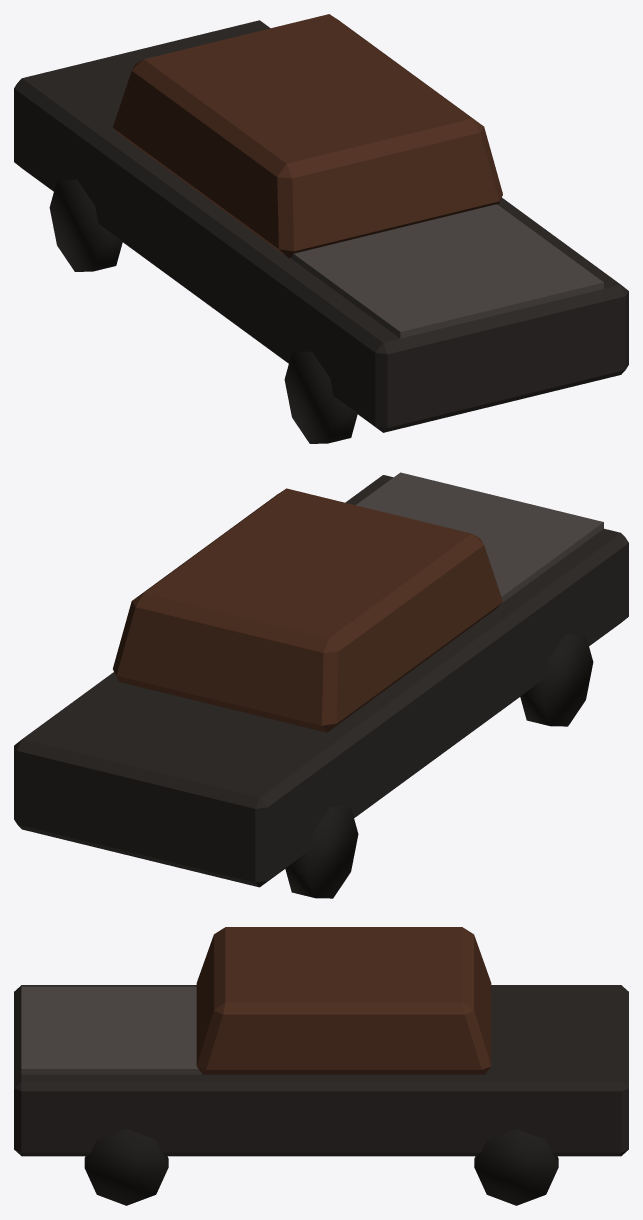
File: car_burned.glb
3 views of the same model, one above another, from view 1: azimuth 30°, elevation 25°; view 2: azimuth 150°, elevation 25°; view 3: azimuth 270°, elevation 25° (orthographic). The views are drawn at different scales.
Visible parts, largest first — view 1: CarBurned; view 2: CarBurned; view 3: CarBurned.
Part boxes in pixels (<box>): CarBurned: <box>14,14,628,443</box>; CarBurned: <box>14,472,628,898</box>; CarBurned: <box>14,927,628,1205</box>.
Size of the model in its own units: 1.65 by 1.39 by 4.1.
